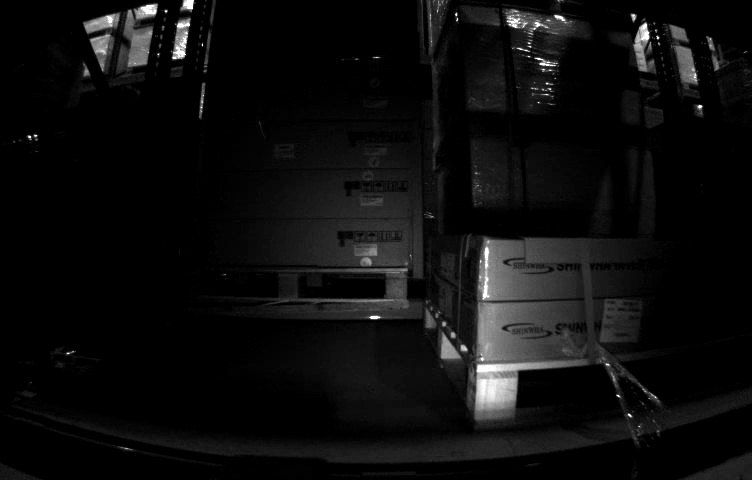True Barcode: (602, 299, 643, 344)
